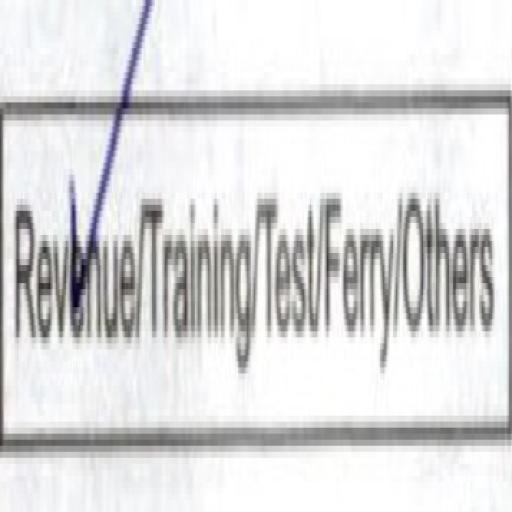check: (1, 34, 142, 456)
